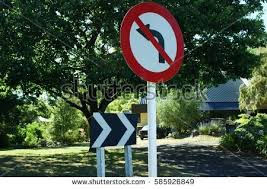No_left_turn: (118, 2, 186, 82)
